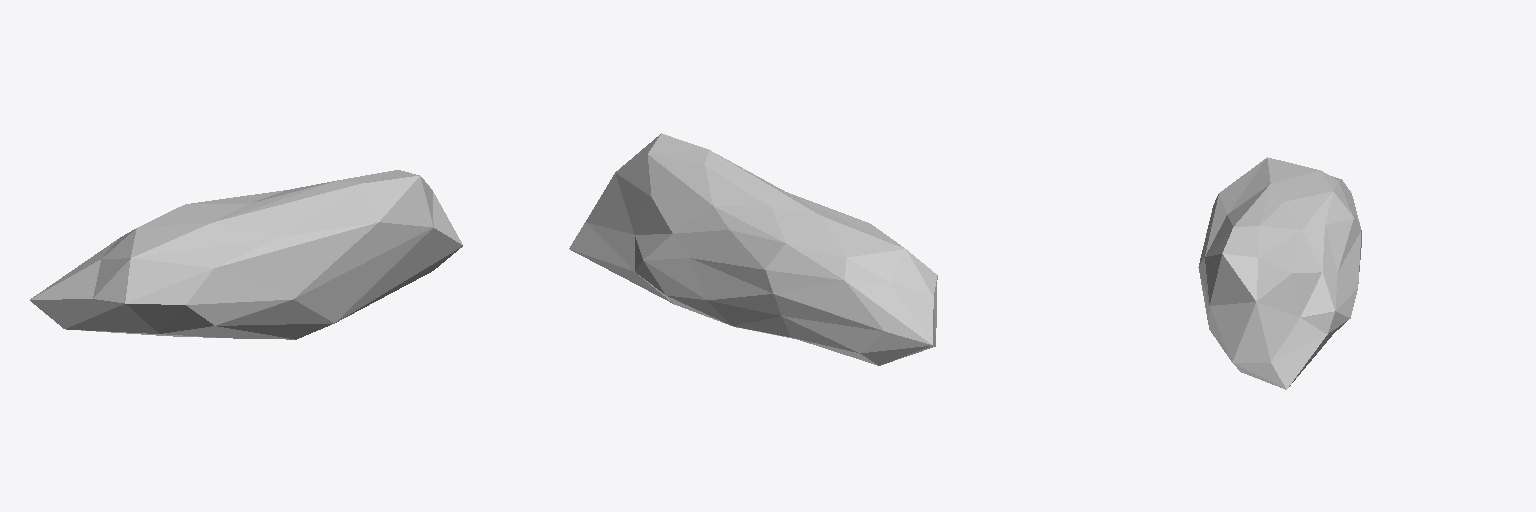
File: Cloud17.obj
3 views of the same model, side by side, from view 1: azimuth 30°, elevation 25°; view 2: azimuth 150°, elevation 25°; view 3: azimuth 270°, elevation 25° (orthographic).
Parts seen in each view (by area): view 1: Cloud17_Object_62_Object_29.001; view 2: Cloud17_Object_62_Object_29.001; view 3: Cloud17_Object_62_Object_29.001.
Part boxes in pixels (x1,y1,x2,y2): Cloud17_Object_62_Object_29.001: (30,170,462,339); Cloud17_Object_62_Object_29.001: (569,133,937,365); Cloud17_Object_62_Object_29.001: (1198,157,1361,389).
Bounding box in the file's own units: 1.98 × 0.6681 × 0.7129.